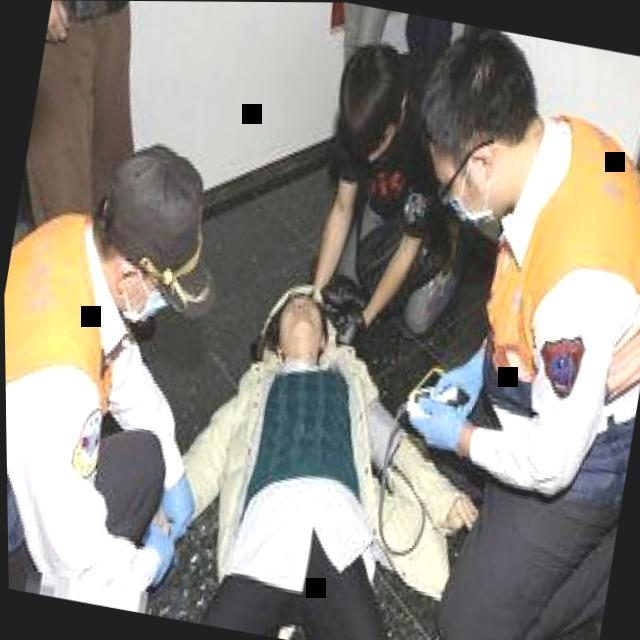Fall-Detected: (144, 234, 510, 640)
